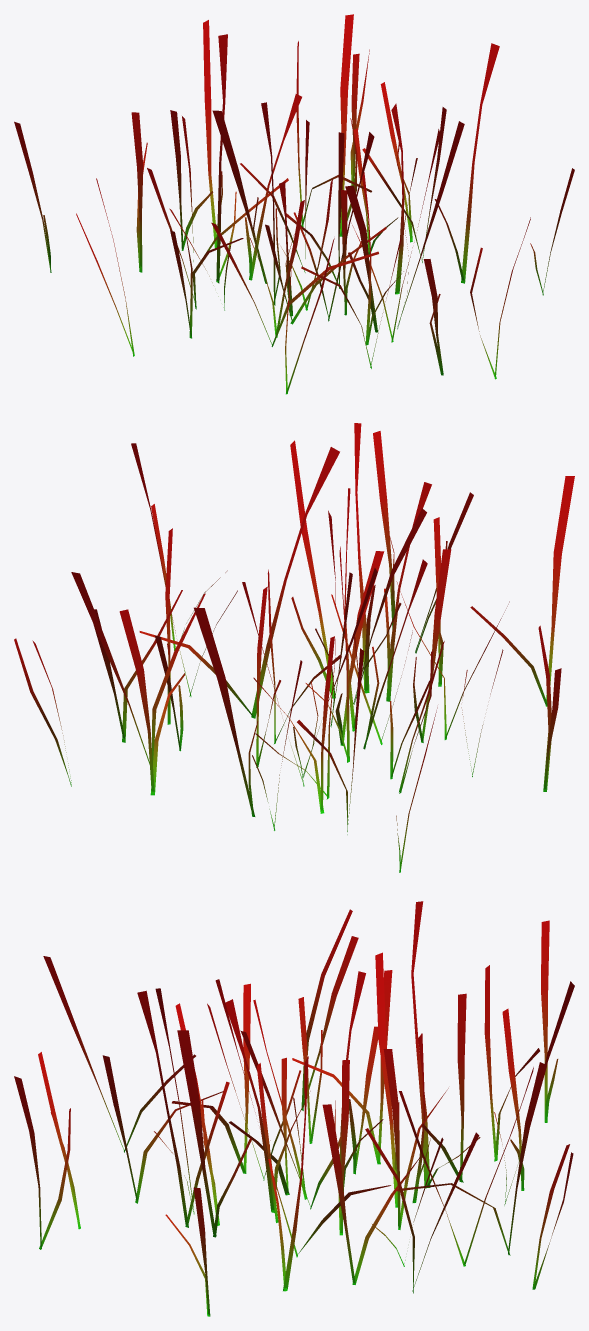
File: Tundra Grass_LOD3_Var13_wk2oaeyqx.fbx
The picture shows the model from 3 angles, top to bottom: view 1: azimuth 30°, elevation 25°; view 2: azimuth 150°, elevation 25°; view 3: azimuth 270°, elevation 25°; orthographic projection. The views are drawn at different scales.
Visible parts, largest first — view 1: _aeo7_Var13_LOD3; view 2: _aeo7_Var13_LOD3; view 3: _aeo7_Var13_LOD3.
Part boxes in pixels (x1,y1,x2,y2): _aeo7_Var13_LOD3: [14, 14, 574, 394]; _aeo7_Var13_LOD3: [14, 423, 574, 872]; _aeo7_Var13_LOD3: [14, 901, 574, 1316].
Size of the model in its own units: 52.48 by 29.35 by 51.55.
